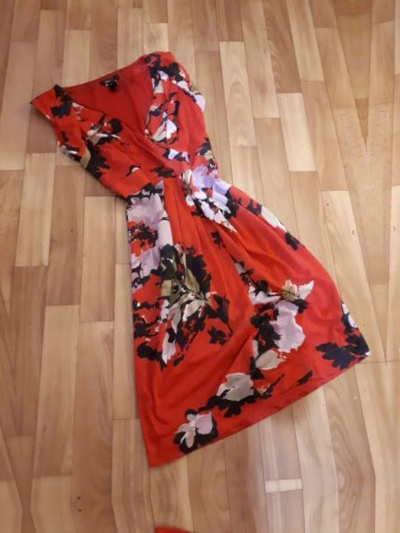Dress: (6, 18, 383, 476), (366, 0, 400, 443), (52, 508, 400, 533), (0, 53, 0, 512)
